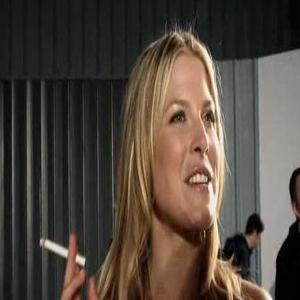cigarette: (32, 238, 86, 267)
